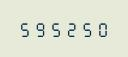five: (17, 20, 31, 37), (48, 20, 62, 37), (78, 20, 92, 37)
nine: (32, 20, 46, 37)
two: (63, 20, 77, 37)
zero: (93, 20, 107, 37)
